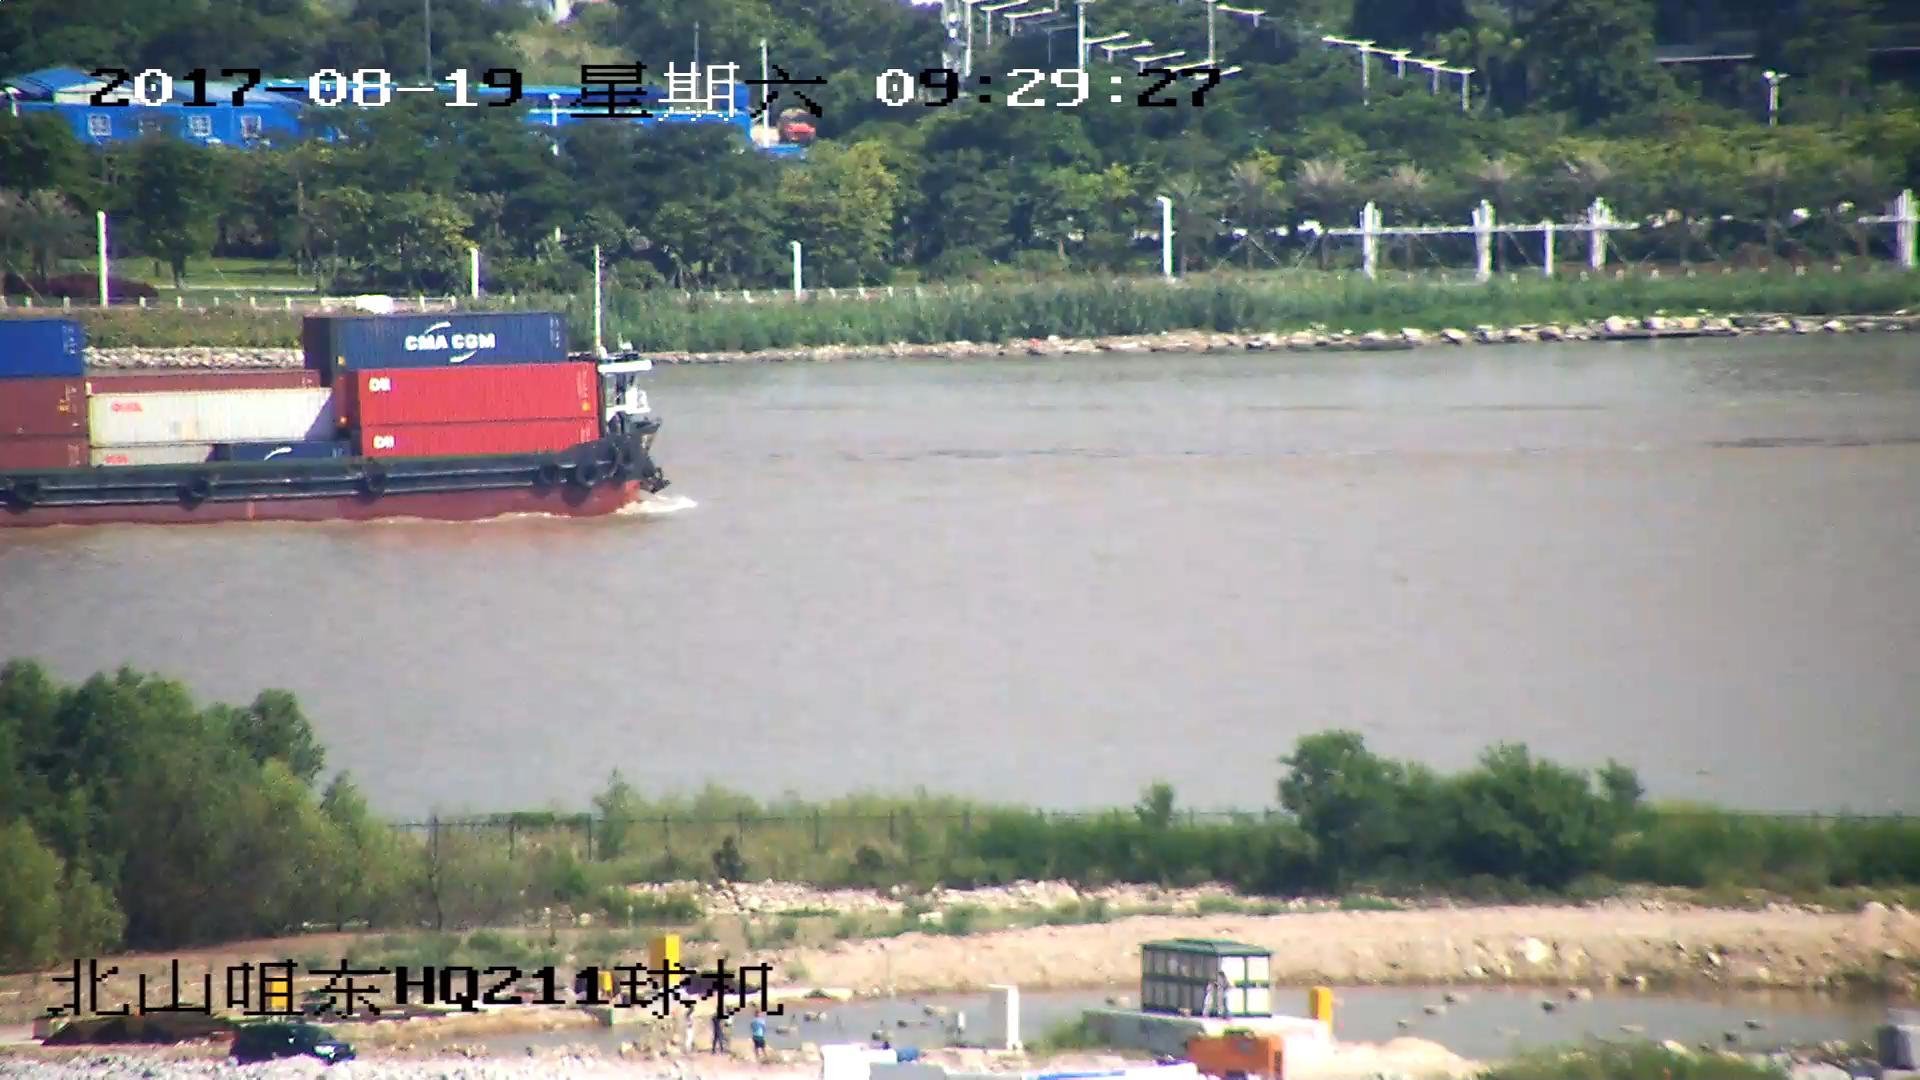container ship: (1, 254, 676, 524)
